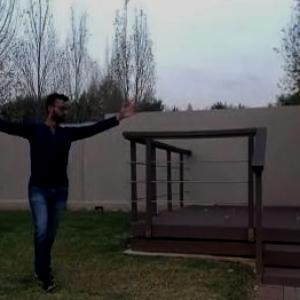takeoff: (0, 89, 142, 293)
